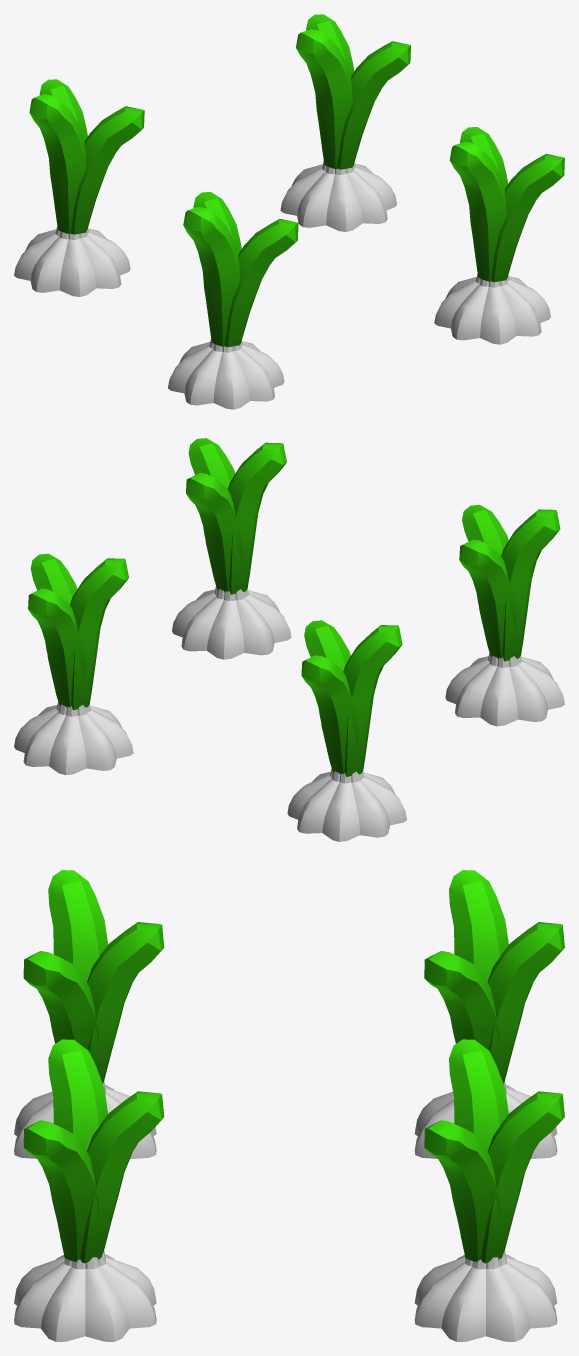
File: Farm_Crop_Garlic_Step_02.fbx
3 renders of one model, top to bottom at view 1: azimuth 30°, elevation 25°; view 2: azimuth 150°, elevation 25°; view 3: azimuth 270°, elevation 25°, orthographic. The views are drawn at different scales.
Parts seen in each view (by area): view 1: Farm_Crop_Garlic_Step_02; view 2: Farm_Crop_Garlic_Step_02; view 3: Farm_Crop_Garlic_Step_02.
Boxes of the visible parts, <box> form: Farm_Crop_Garlic_Step_02: <box>14,14,564,409</box>; Farm_Crop_Garlic_Step_02: <box>14,438,564,841</box>; Farm_Crop_Garlic_Step_02: <box>14,870,564,1341</box>.
Size of the model in its own units: 139 by 67.81 by 138.
